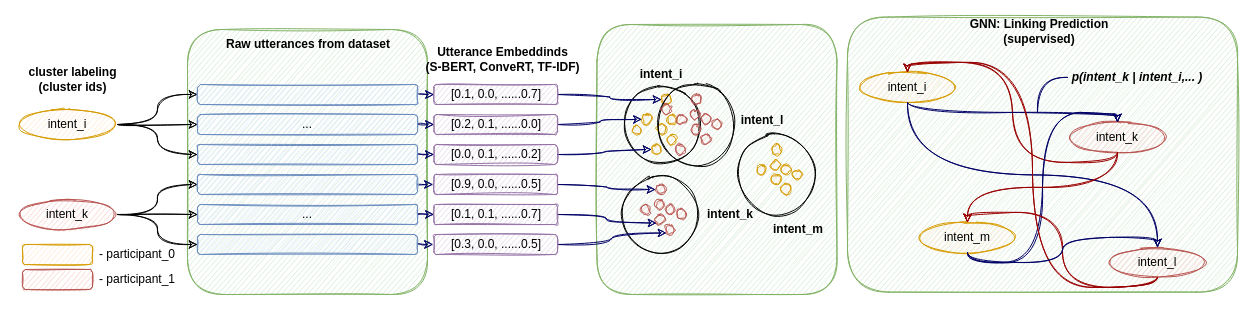
Some shapes in this 1255 by 313 pixel diagram are drawn without their labels. The shapes that lost their labels are listed below. From the top down, each one's box as (x1, y1, x2, y2) in pixels, then its label:
(196, 84, 418, 104): dialog_0 participant_0 utter_0
(196, 144, 418, 164): dialog_m participant_0 utter_n
(596, 24, 837, 294): Clustering (unsupervised)
(196, 174, 418, 194): dialog_0 participant_1 utter_0
(196, 234, 418, 254): dialog_z participant_1 utter_p
